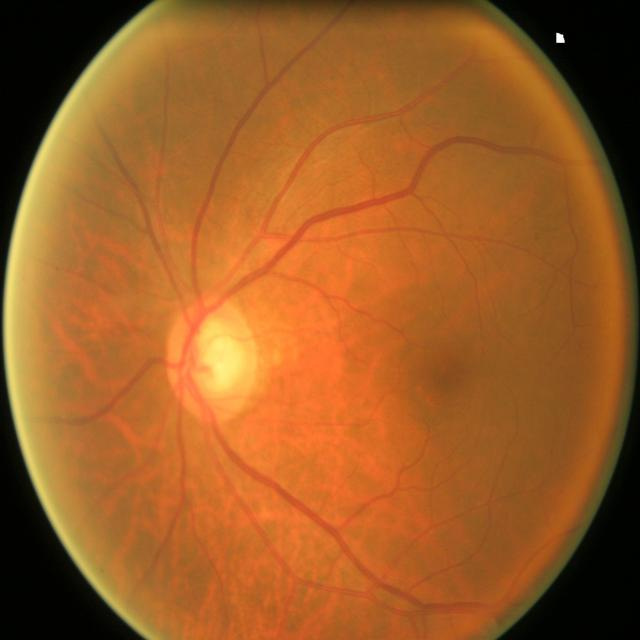OC: (183, 317, 246, 396)
OD: (165, 297, 260, 419)
